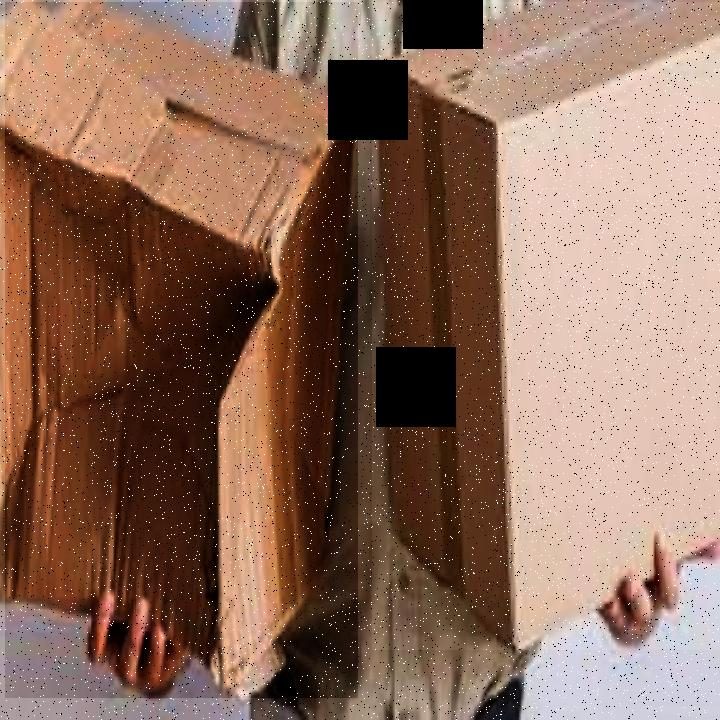box: (5, 2, 358, 698), (372, 2, 720, 650)
